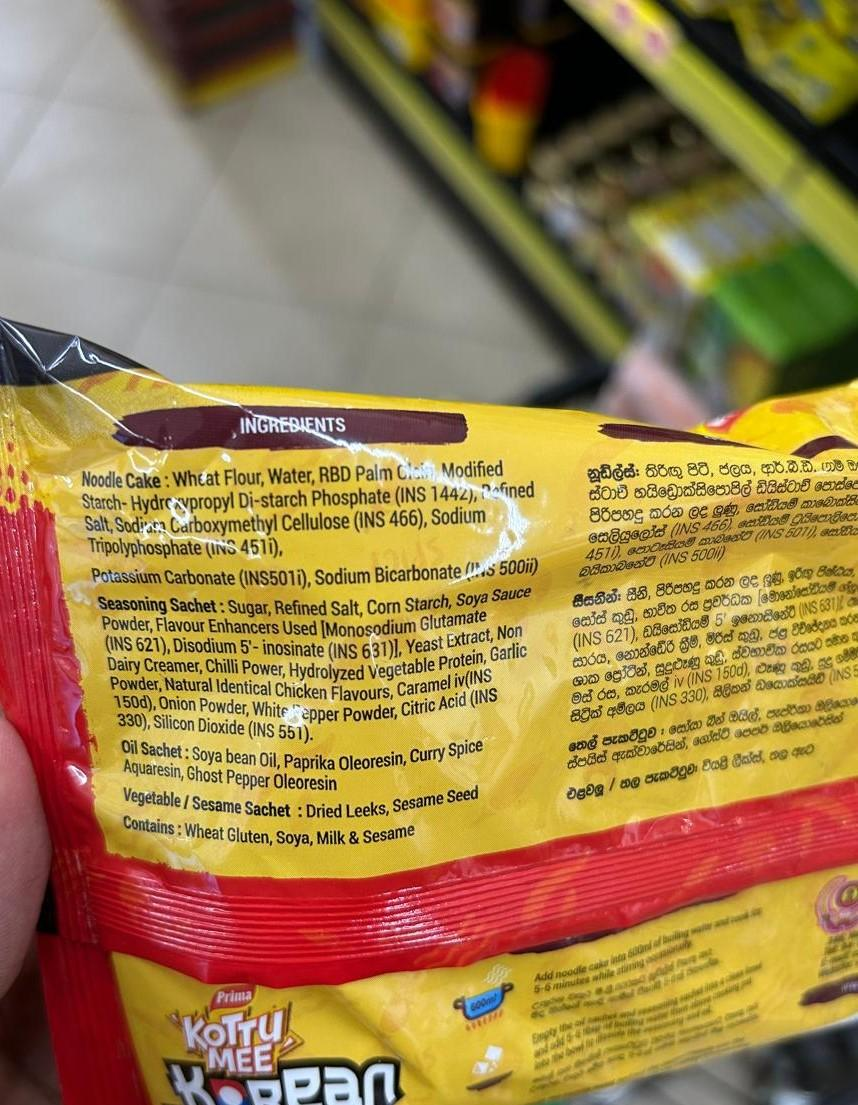ingredients: (48, 378, 572, 876)
